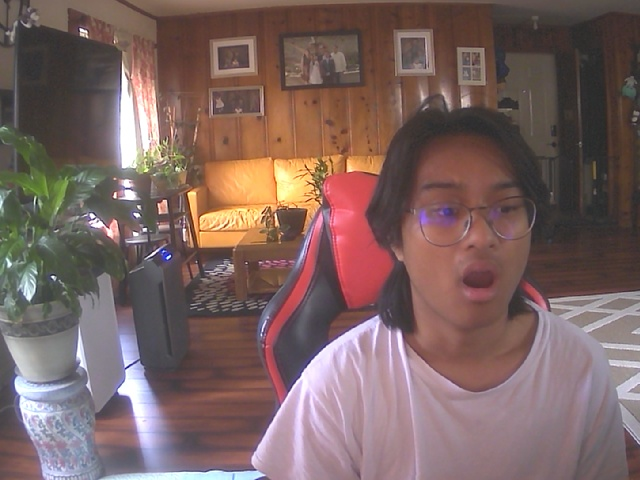fear: (381, 105, 546, 336)
